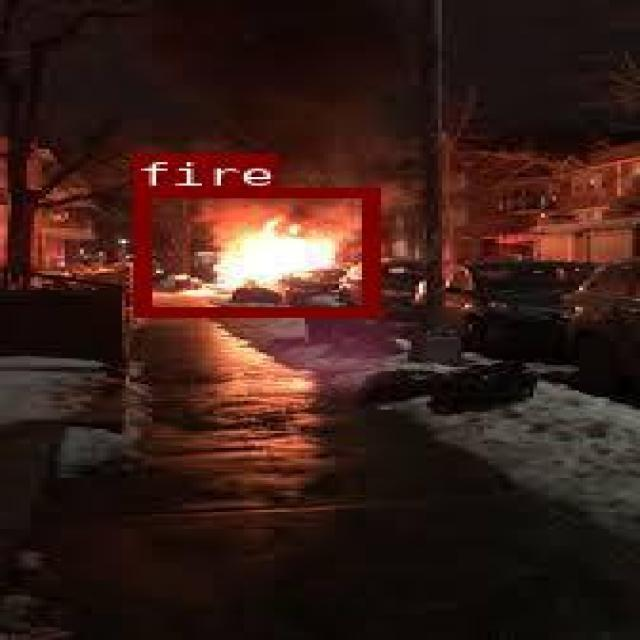fire: (132, 186, 375, 315)
